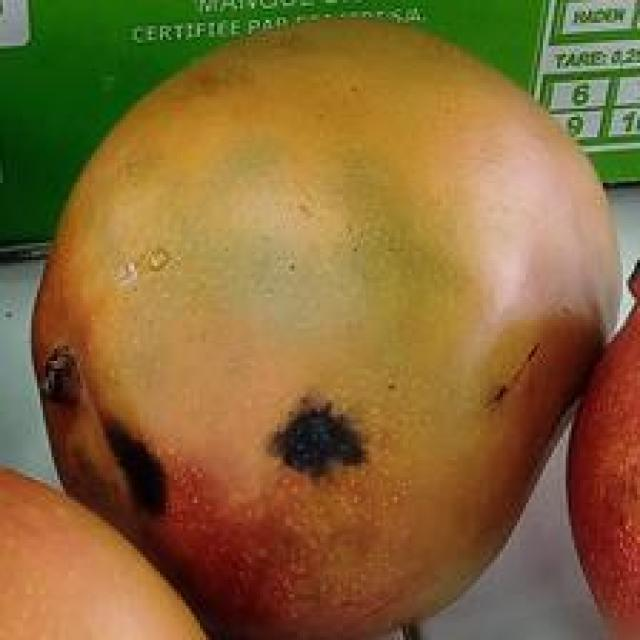Bad_Mango: (34, 20, 618, 640)
